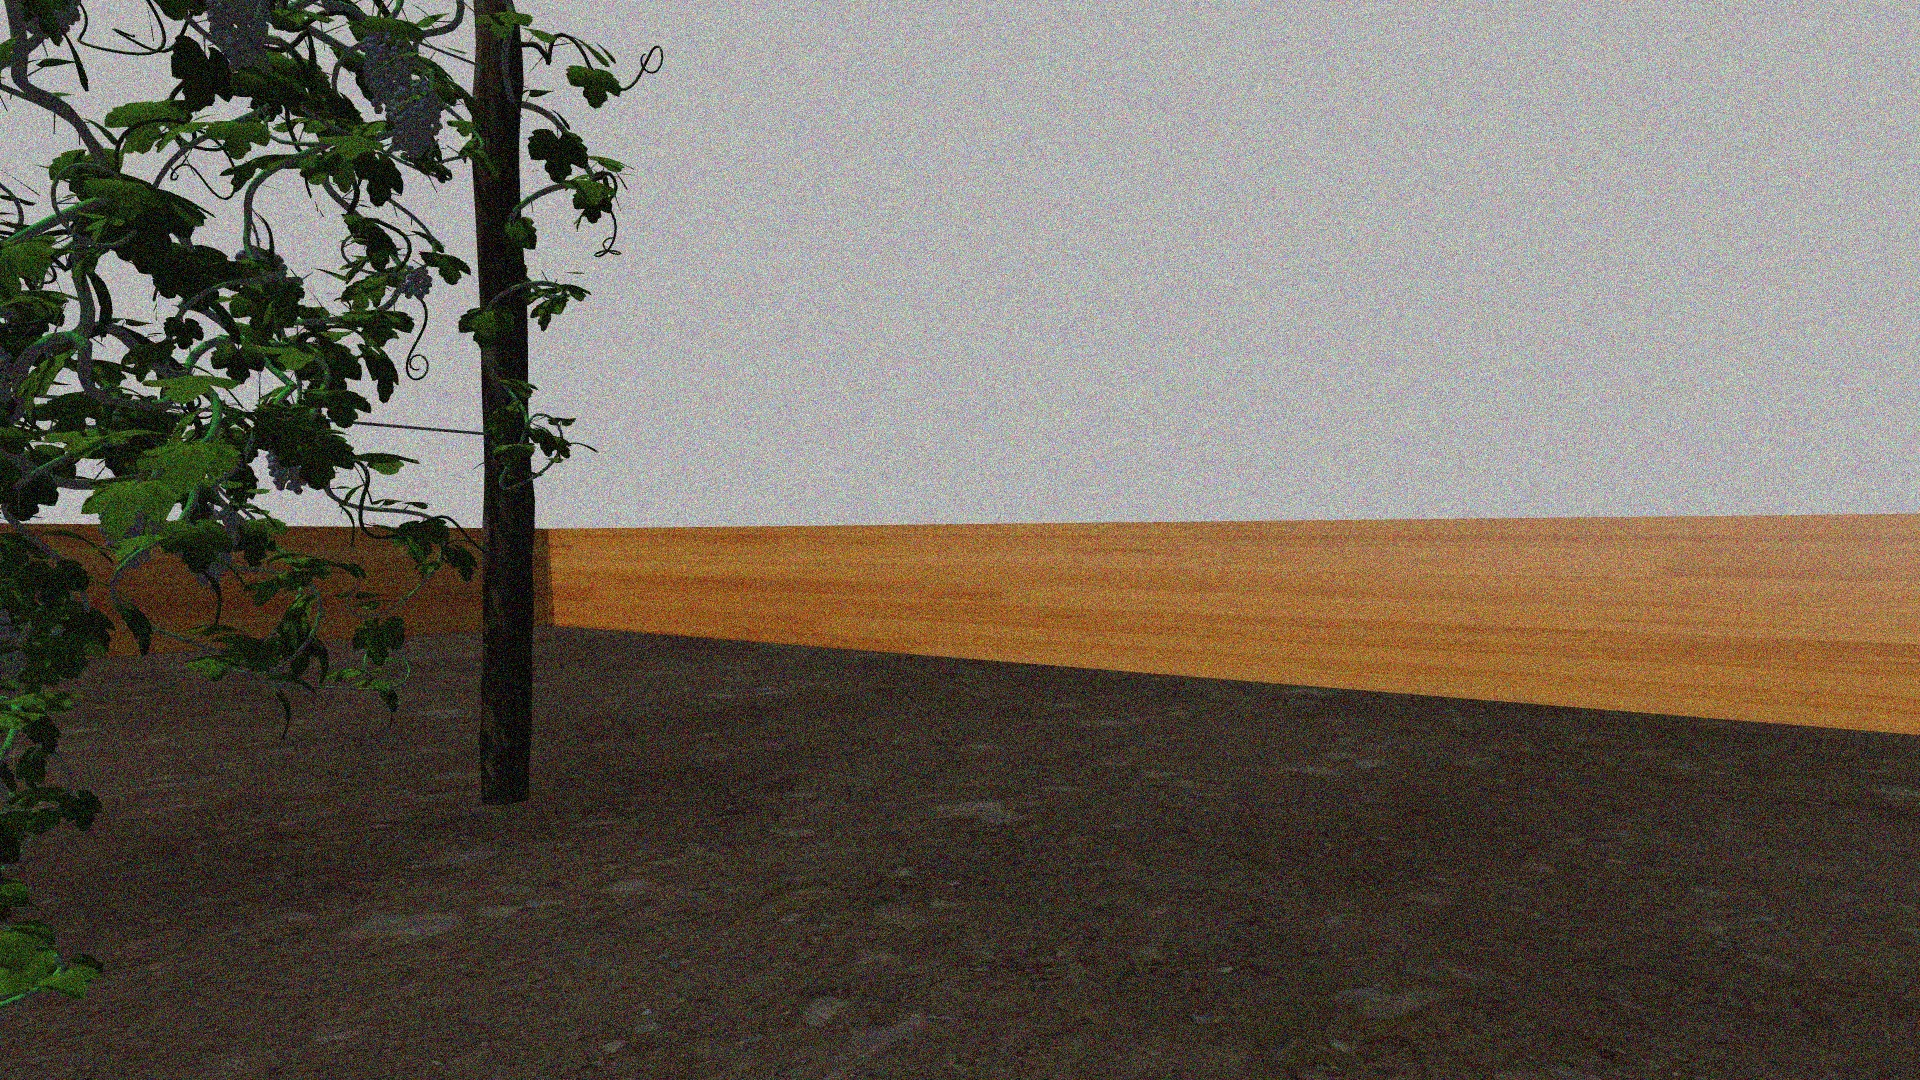grape: (361, 29, 419, 115), (204, 7, 273, 73), (392, 84, 446, 164), (400, 266, 433, 302)
